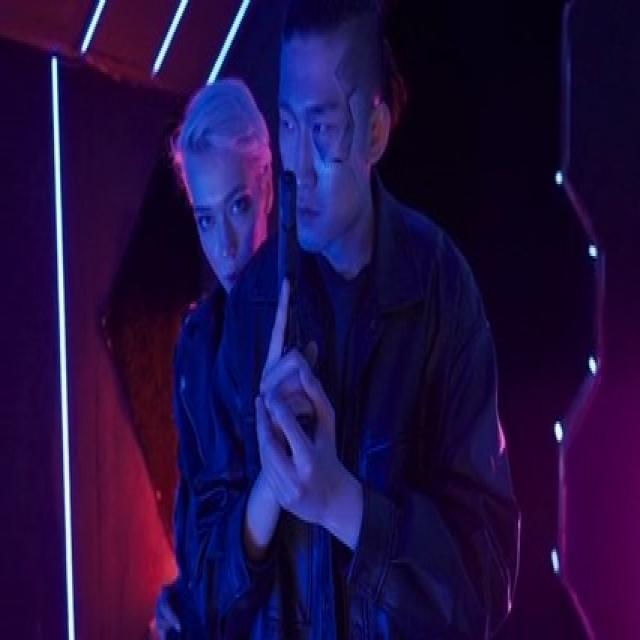Gun_Holder: (255, 162, 336, 495)
Jacket_Wearer: (218, 208, 529, 640)
Person: (218, 0, 525, 640), (159, 62, 280, 632)
